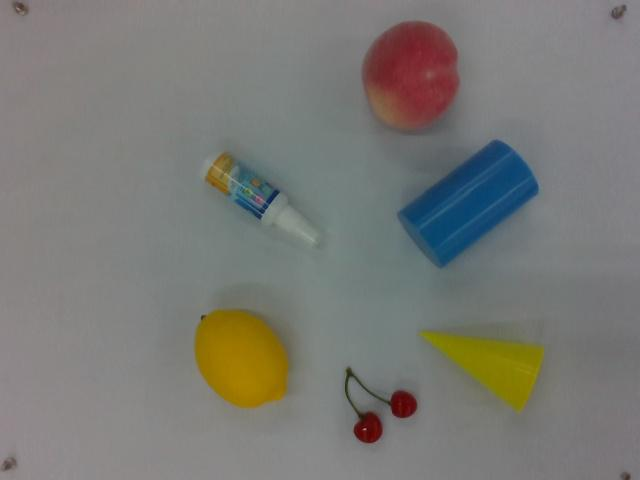cherry: (342, 359, 418, 445)
cone: (418, 326, 546, 415)
cylinder: (399, 134, 545, 269)
detergent: (197, 145, 325, 253)
lemon: (193, 299, 293, 411)
peach: (363, 17, 463, 137)
